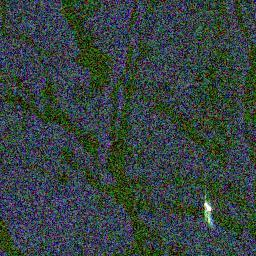Ship: (201, 201, 213, 215)
